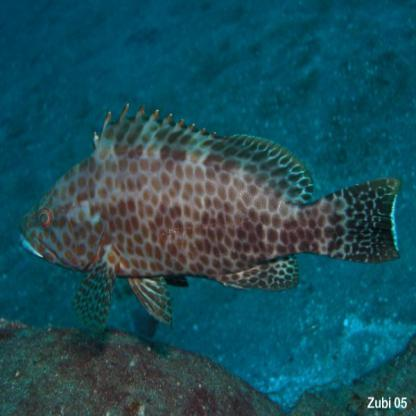Serranidae -Groupers-: (13, 103, 404, 333)
